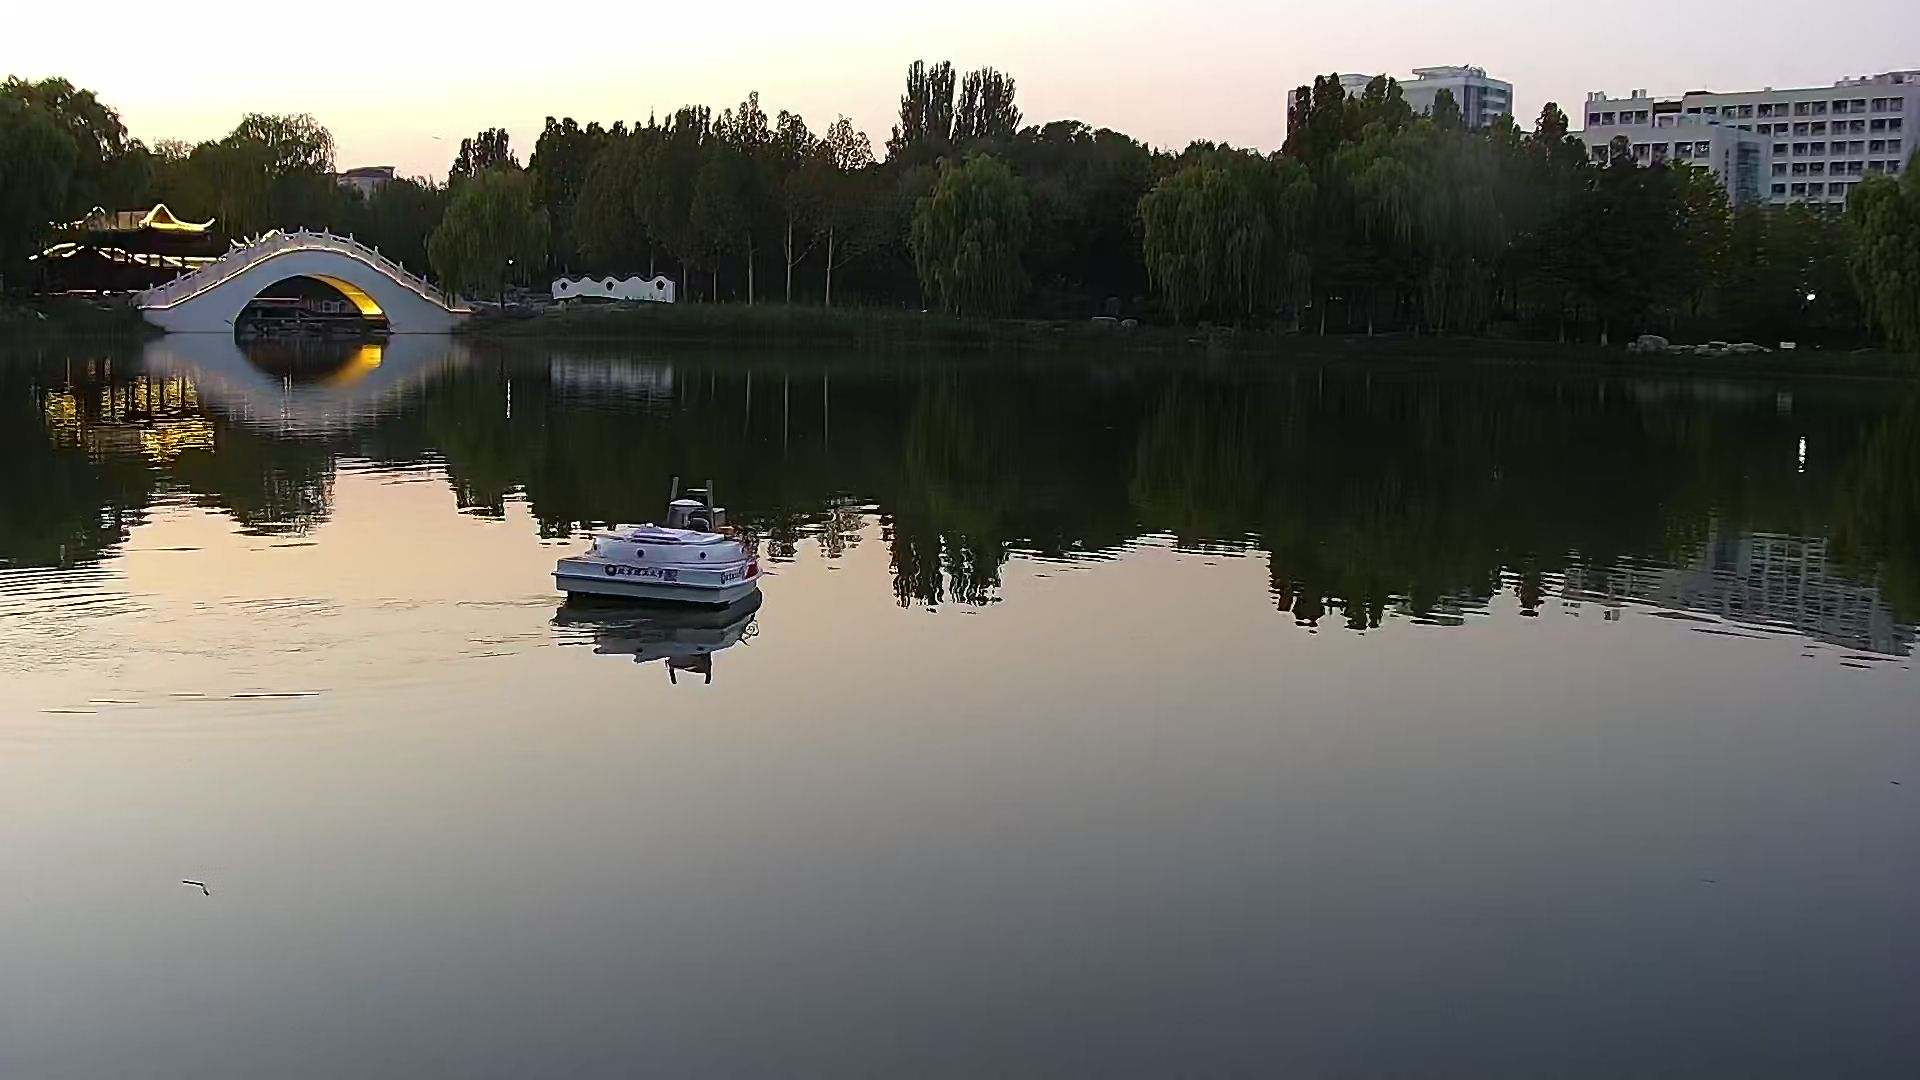boat: (547, 481, 767, 618)
bridge: (154, 222, 448, 335)
rock: (1625, 328, 1774, 365)
